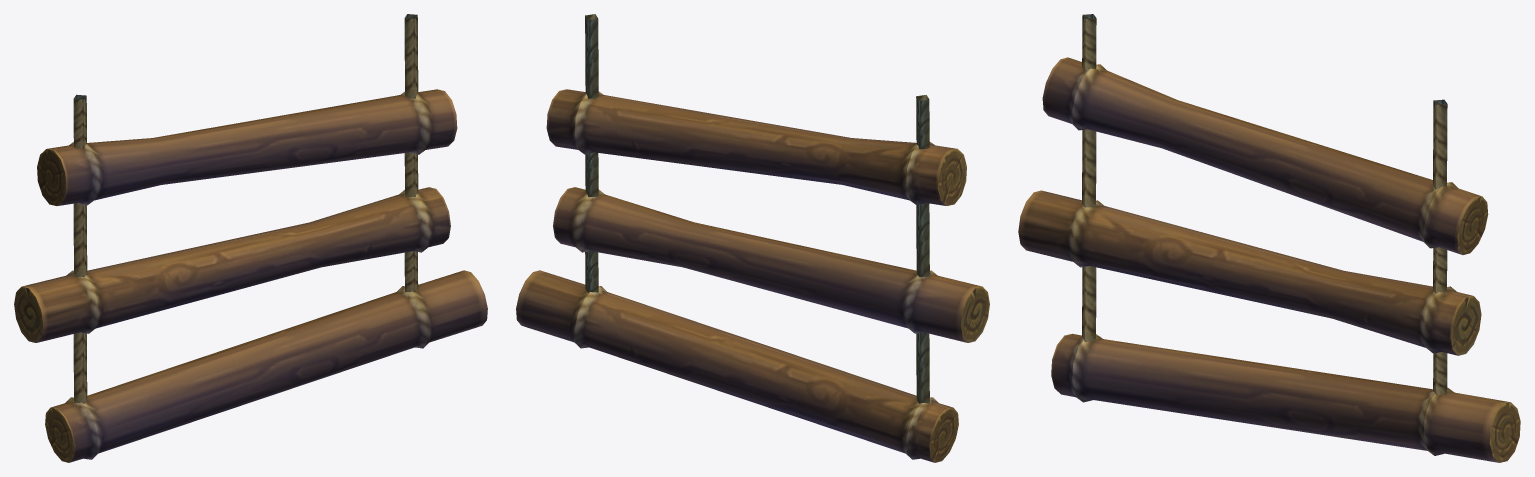
File: scenes_demo_climb01a.FBX
3 views of the same model, side by side, from view 1: azimuth 30°, elevation 25°; view 2: azimuth 150°, elevation 25°; view 3: azimuth 330°, elevation 25° (orthographic). The views are drawn at different scales.
Visible parts, largest first — view 1: scenes_demo_climb01a; view 2: scenes_demo_climb01a; view 3: scenes_demo_climb01a.
Part boxes in pixels (left/top/right/bottom): scenes_demo_climb01a: left=14, top=14, right=487, bottom=462; scenes_demo_climb01a: left=516, top=14, right=989, bottom=462; scenes_demo_climb01a: left=1018, top=14, right=1520, bottom=462.
Bounding box in the file's own units: 347 × 268 × 44.43.
